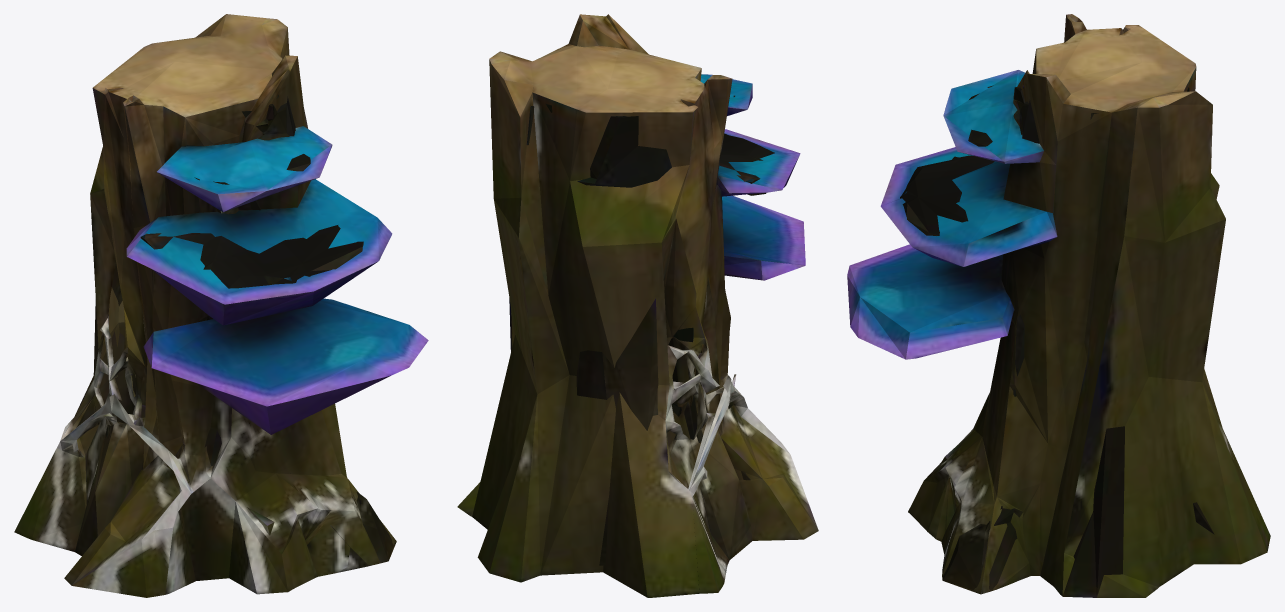
Rendered from d_mycelium_totem.glb.
3 renders of one model, left to right at view 1: azimuth 30°, elevation 25°; view 2: azimuth 150°, elevation 25°; view 3: azimuth 270°, elevation 25°, orthographic.
Parts seen in each view (by area): view 1: geometry_0; view 2: geometry_0; view 3: geometry_0.
Part boxes in pixels (x1,y1,x2,y2): geometry_0: (14, 14, 428, 597); geometry_0: (457, 14, 818, 597); geometry_0: (847, 14, 1270, 597).
Bounding box in the file's own units: 0.6723 × 0.9985 × 0.7913.
1 material, 1 textured.
